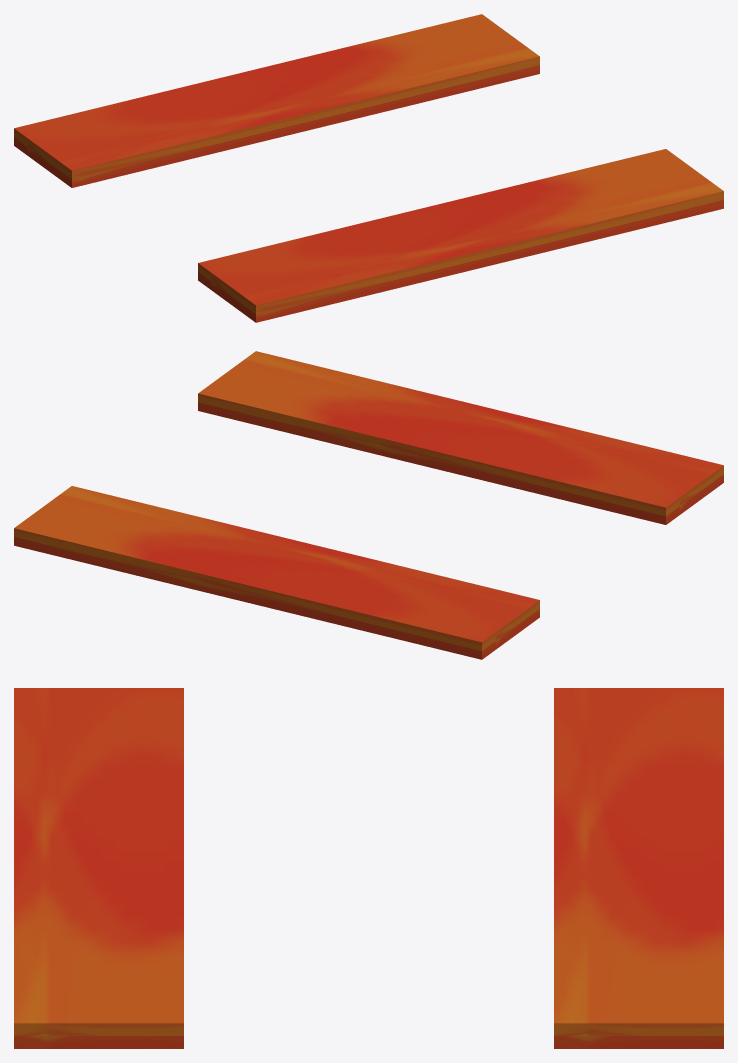
The model's file is M_SueloMuerte.obj.
The picture shows the model from 3 angles, top to bottom: view 1: azimuth 30°, elevation 25°; view 2: azimuth 150°, elevation 25°; view 3: azimuth 270°, elevation 25°; orthographic projection. The views are drawn at different scales.
Parts seen in each view (by area): view 1: M_SueloMuerte1, M_SueloMuerte2; view 2: M_SueloMuerte1, M_SueloMuerte2; view 3: M_SueloMuerte1, M_SueloMuerte2.
Boxes of the visible parts, x1=… form: M_SueloMuerte1: x1=198, y1=149, x2=723, y2=322; M_SueloMuerte2: x1=14, y1=14, x2=539, y2=187; M_SueloMuerte1: x1=198, y1=351, x2=723, y2=524; M_SueloMuerte2: x1=14, y1=486, x2=539, y2=659; M_SueloMuerte1: x1=14, y1=688, x2=183, y2=1048; M_SueloMuerte2: x1=554, y1=688, x2=723, y2=1048.
Bounding box in the file's own units: 14 × 0.5 × 12.54.
